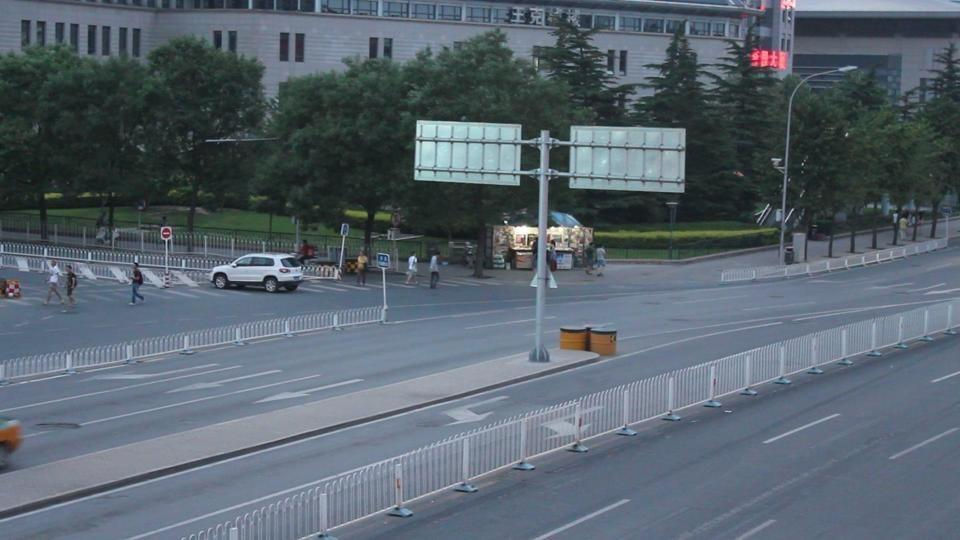car: (210, 254, 303, 293), (0, 413, 24, 458)
